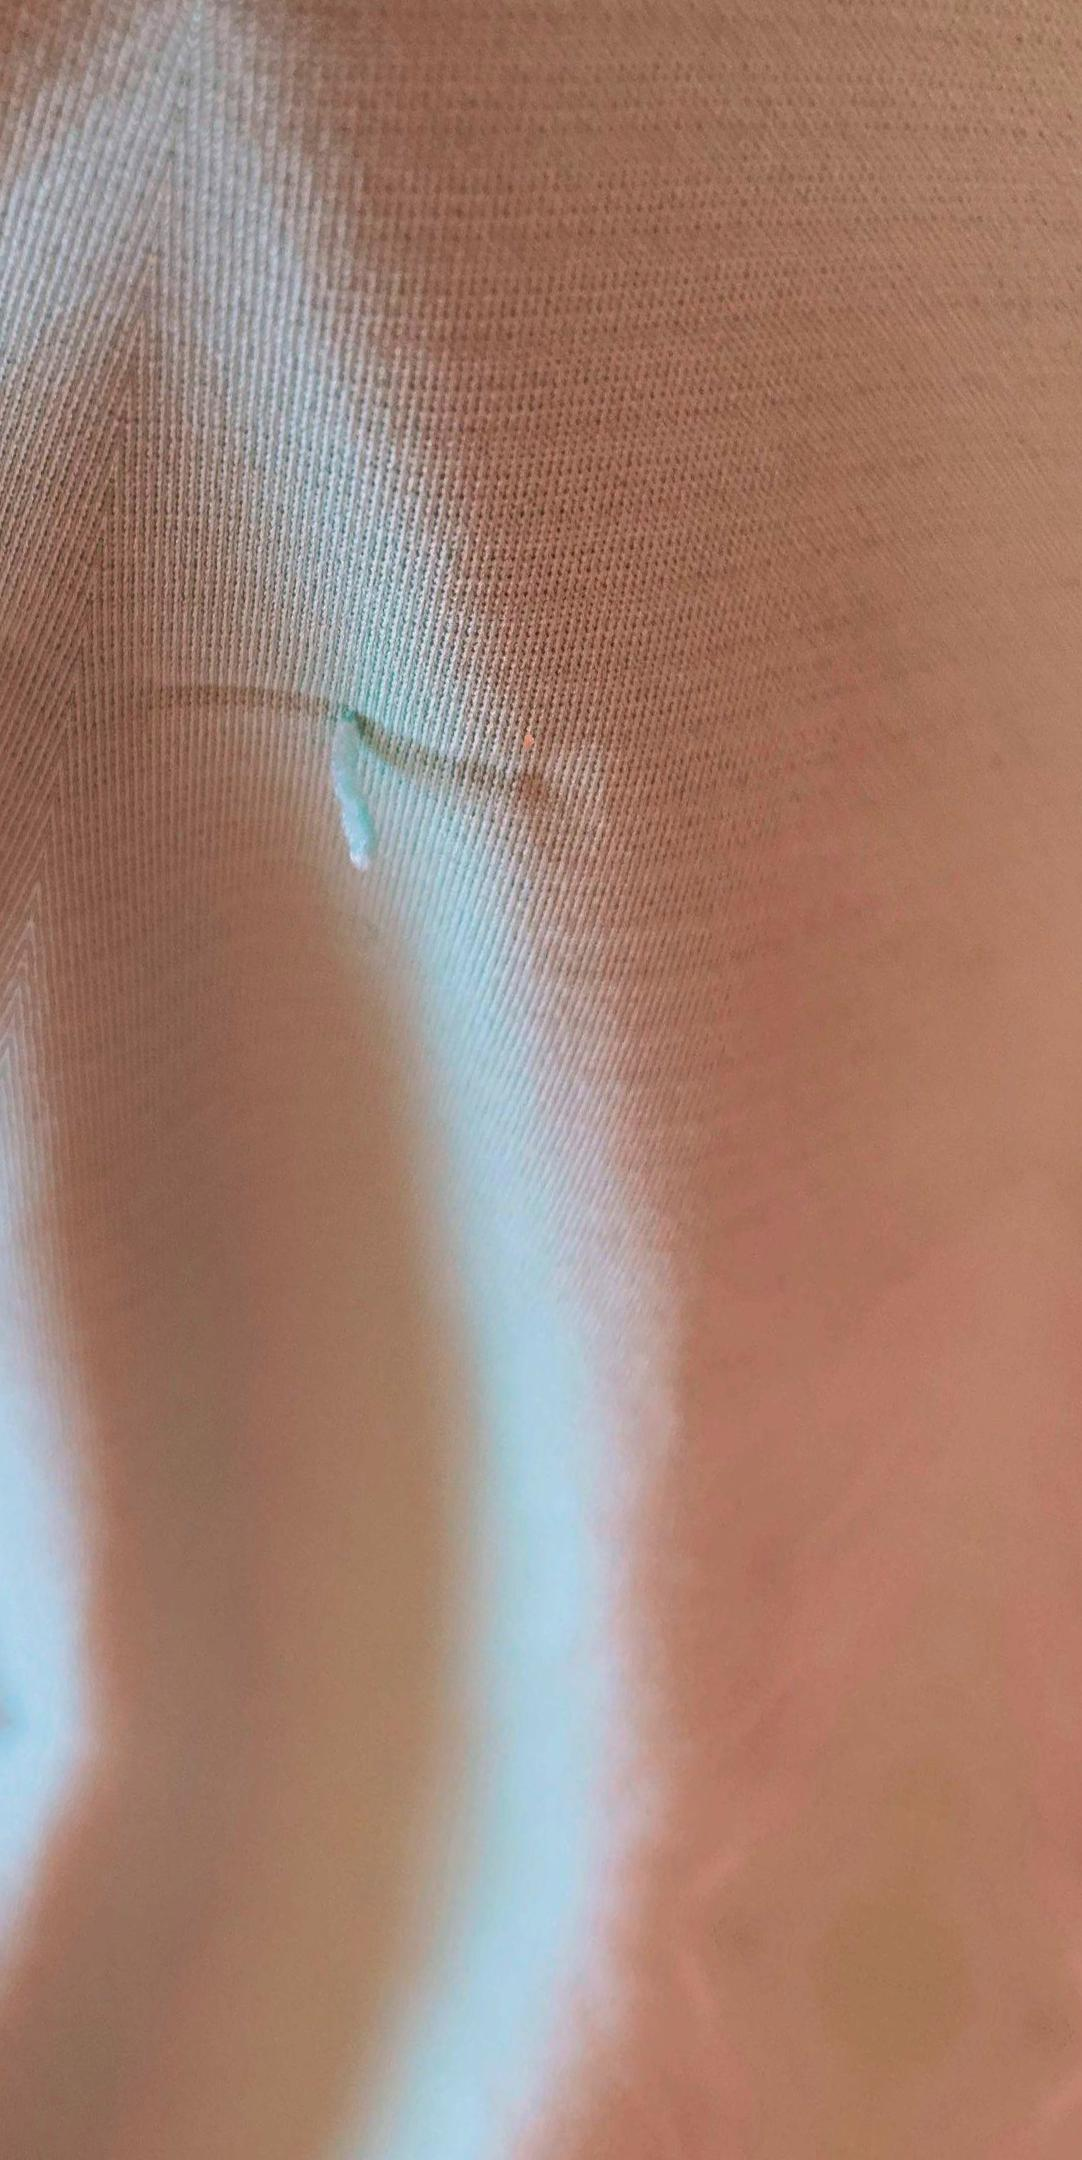snag: (251, 637, 454, 913)
